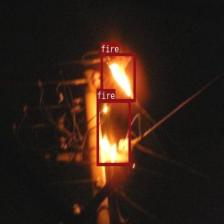fire: (96, 99, 130, 165), (100, 52, 136, 101)
